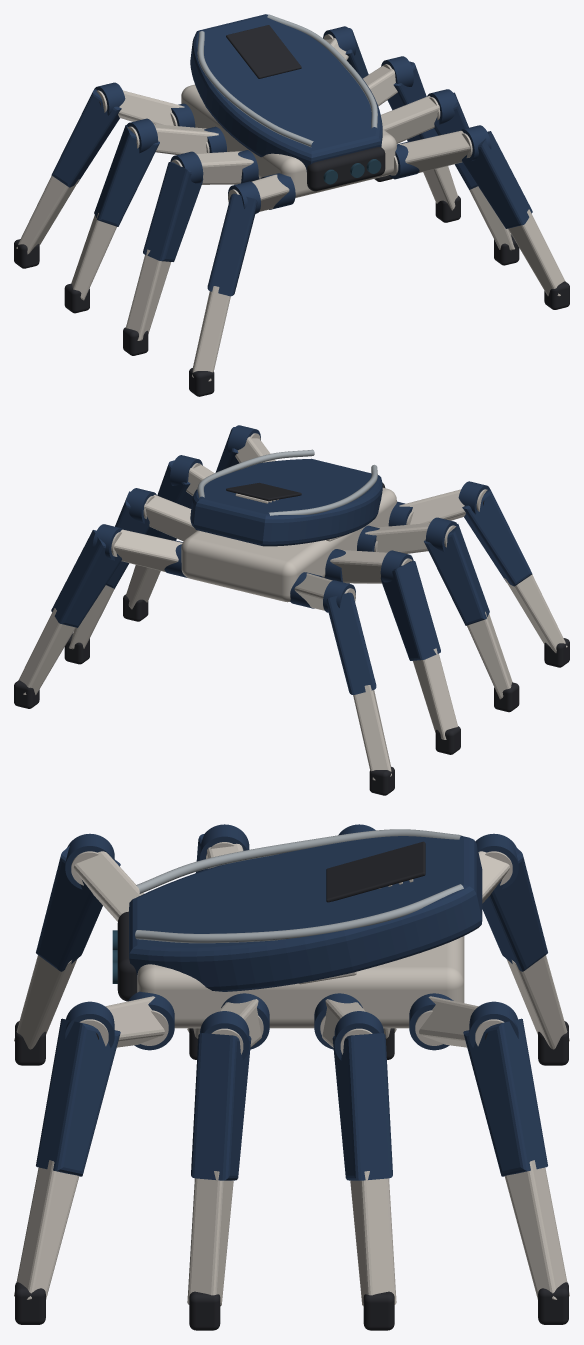
File: robots-21.glb
The picture shows the model from 3 angles, top to bottom: view 1: azimuth 30°, elevation 25°; view 2: azimuth 150°, elevation 25°; view 3: azimuth 270°, elevation 25°; orthographic projection. The views are drawn at different scales.
Parts seen in each view (by area): view 1: shell, leg-guards, lower, upper, knees, feet, frame, hips, vents, vision; view 2: leg-guards, shell, lower, upper, frame, knees, feet, hips, vents; view 3: shell, leg-guards, lower, frame, upper, knees, feet, hips, vents, vision.
Boxes of the visible parts, x1=… form: shell: x1=190, y1=14, x2=382, y2=171; leg-guards: x1=51, y1=28, x2=532, y2=296; lower: x1=16, y1=166, x2=565, y2=381; upper: x1=118, y1=38, x2=469, y2=211; knees: x1=94, y1=26, x2=491, y2=213; feet: x1=14, y1=175, x2=569, y2=396; frame: x1=181, y1=84, x2=396, y2=197; hips: x1=170, y1=103, x2=419, y2=209; vents: x1=226, y1=25, x2=301, y2=78; vision: x1=307, y1=147, x2=385, y2=191; leg-guards: x1=51, y1=427, x2=532, y2=694; shell: x1=190, y1=449, x2=382, y2=546; lower: x1=19, y1=565, x2=567, y2=780; upper: x1=114, y1=436, x2=465, y2=610; frame: x1=181, y1=487, x2=396, y2=602; knees: x1=92, y1=425, x2=489, y2=612; feet: x1=14, y1=594, x2=569, y2=795; hips: x1=164, y1=501, x2=413, y2=608; vents: x1=226, y1=482, x2=301, y2=503; shell: x1=129, y1=829, x2=482, y2=991; leg-guards: x1=36, y1=834, x2=547, y2=1180; lower: x1=14, y1=955, x2=569, y2=1306; frame: x1=137, y1=936, x2=464, y2=1028; upper: x1=74, y1=843, x2=509, y2=1047; knees: x1=65, y1=824, x2=518, y2=1060; feet: x1=15, y1=1021, x2=568, y2=1330; hips: x1=127, y1=991, x2=453, y2=1050; vents: x1=326, y1=841, x2=425, y2=902; vision: x1=112, y1=911, x2=137, y2=1001.
Bounding box in the file's own units: 3.04 × 1.67 × 2.52.
